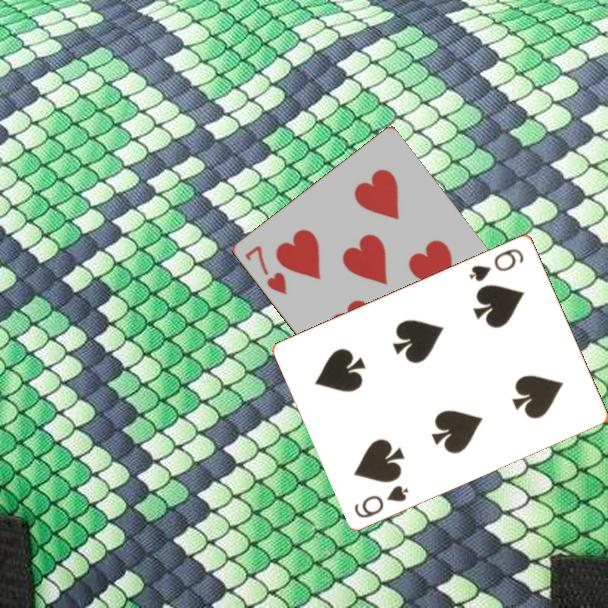h07: (241, 242, 290, 298)
s06: (465, 244, 527, 284), (351, 481, 412, 521)
